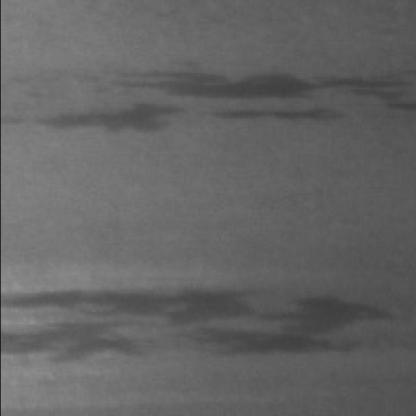inclusion: (0, 276, 406, 364), (0, 52, 393, 131), (25, 96, 189, 139), (308, 64, 412, 115)
